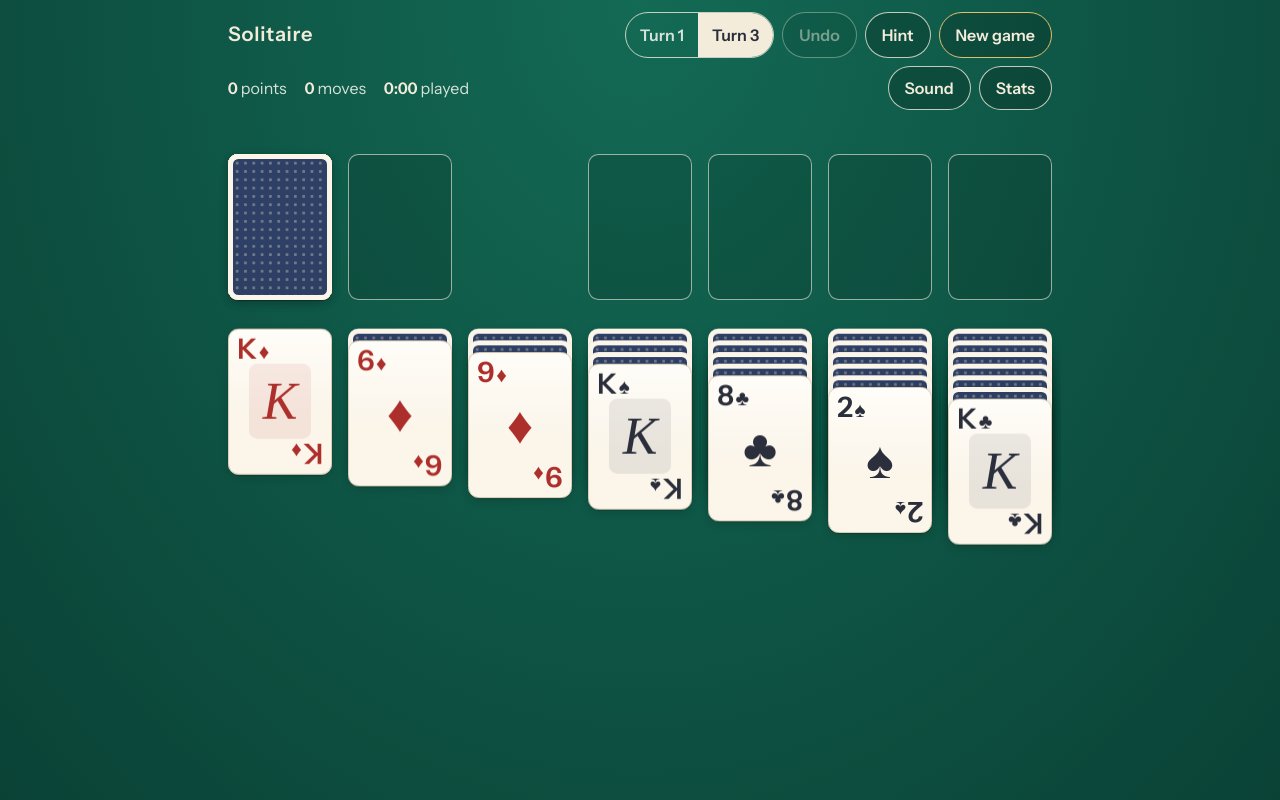
Test: "No more moves" in a real browser › shows with Undo once a move leaves the game stuck; Undo closes it and takes the move back
Click the picture "8 ♣ ♣ 8 ♣".
click(760, 448)  # box x1=708 y1=375 x2=812 y2=521
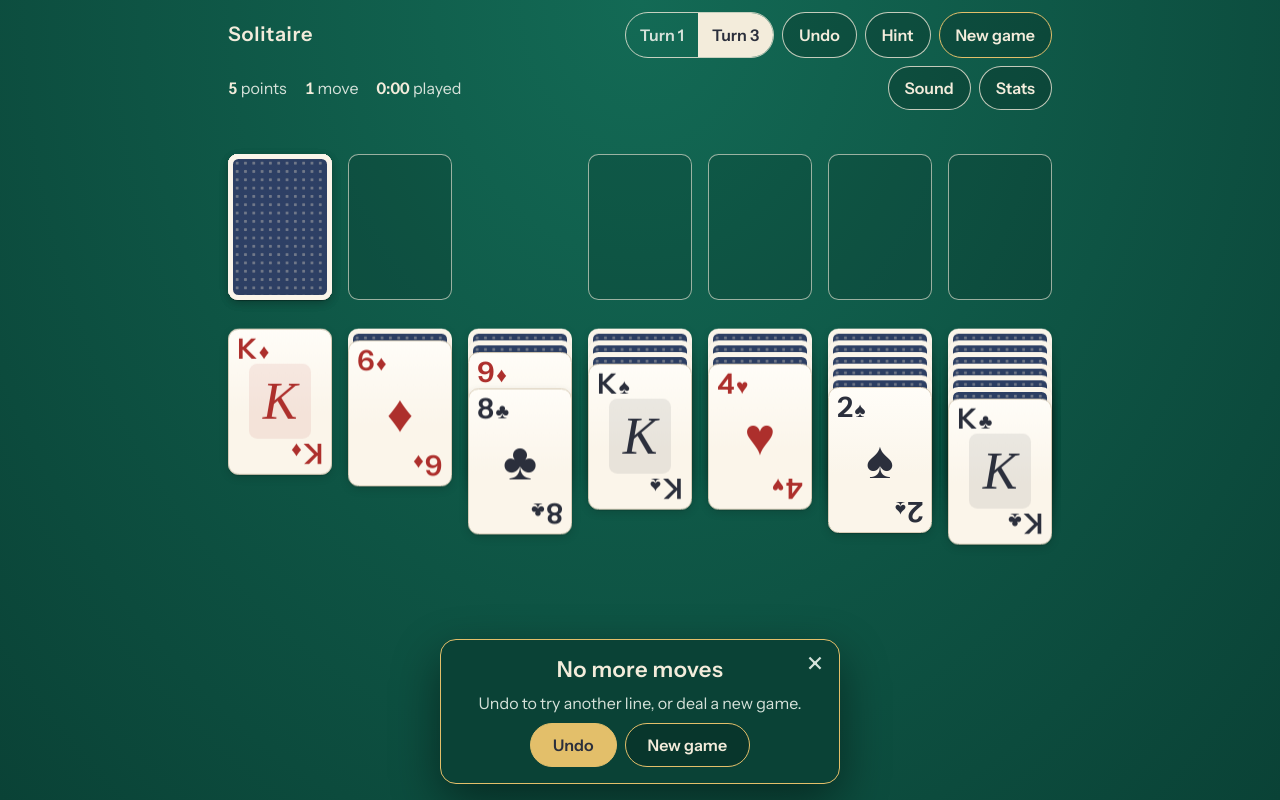
Expected: the element "No more moves" is shown, x1=440 y1=639 x2=840 y2=784
Expected: the button with test id "GameOverTestIds.Undo" is enabled
Click the button with test id "GameOverTestIds.Undo".
click(574, 745)  # box x1=530 y1=723 x2=617 y2=767
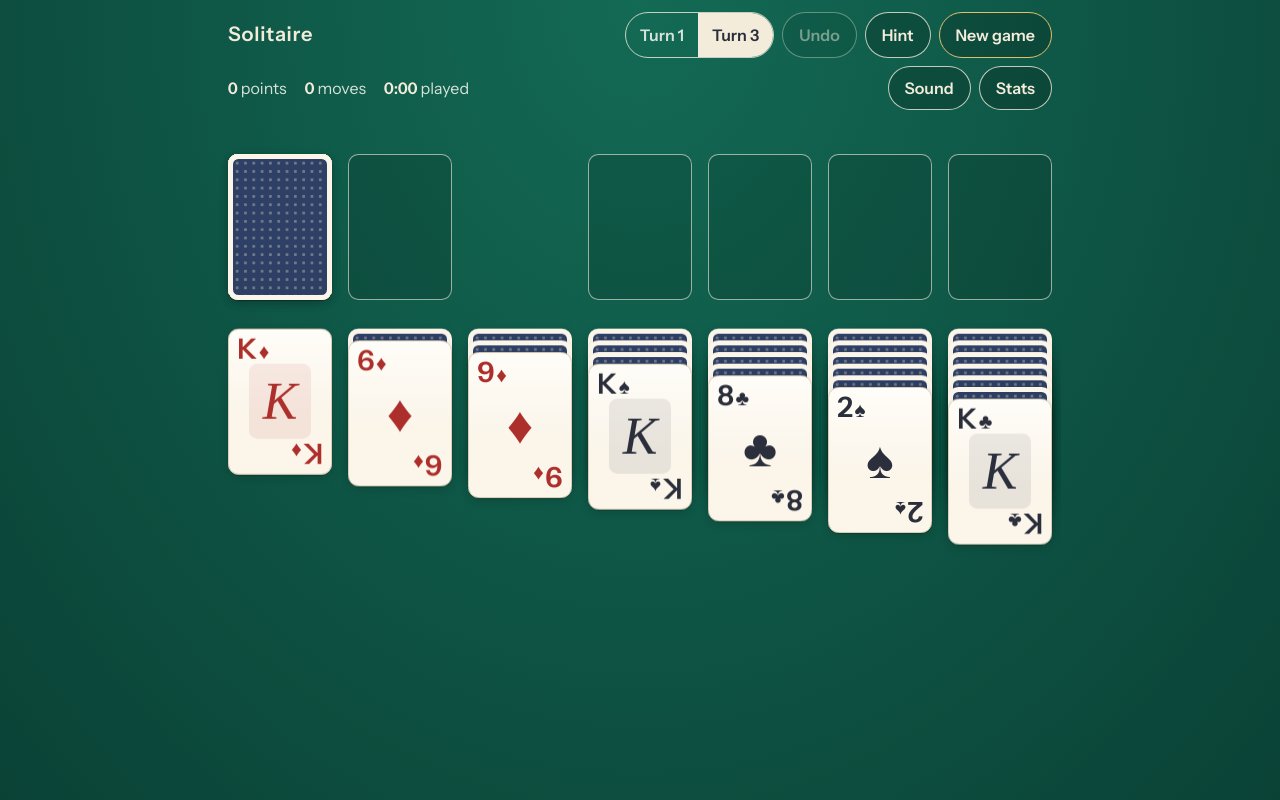
Expected: the element with test id "HudTestIds.Moves" reads "0 moves", x1=305 y1=78 x2=367 y2=98
